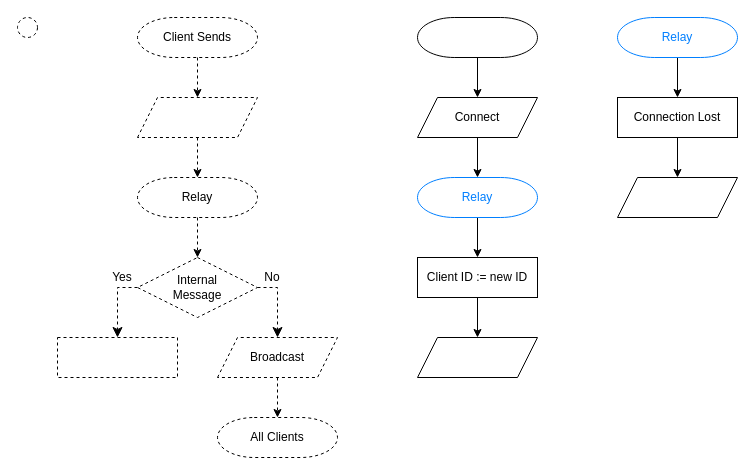
Some shapes in this 755 by 475 pixel diagram are drawn without their labels. The shapes that lost their labels are listed below. From the top down, each one's box as (x1, y1, x2, y2) in pixels, then its label:
(416, 16, 538, 58): Client
(136, 96, 258, 138): JSON via WebSocket
(616, 176, 738, 218): Dropped Out Member: ID
(56, 336, 178, 378): Process
(416, 336, 538, 378): New Member Member: ID
